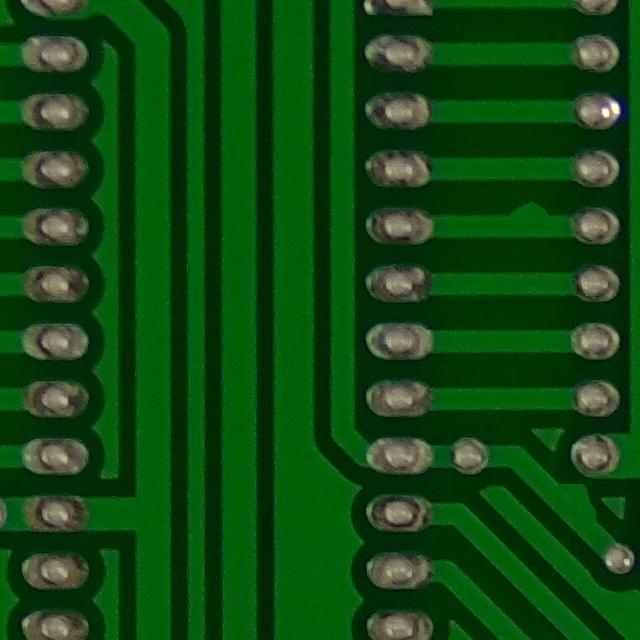spur: (537, 473, 611, 531), (497, 186, 561, 236)
